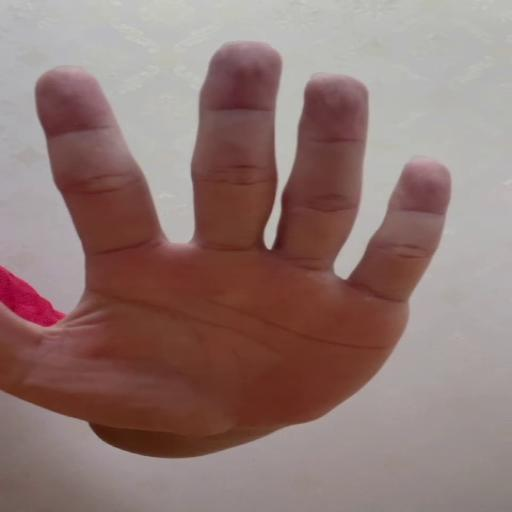open_palm: (4, 37, 452, 434)
